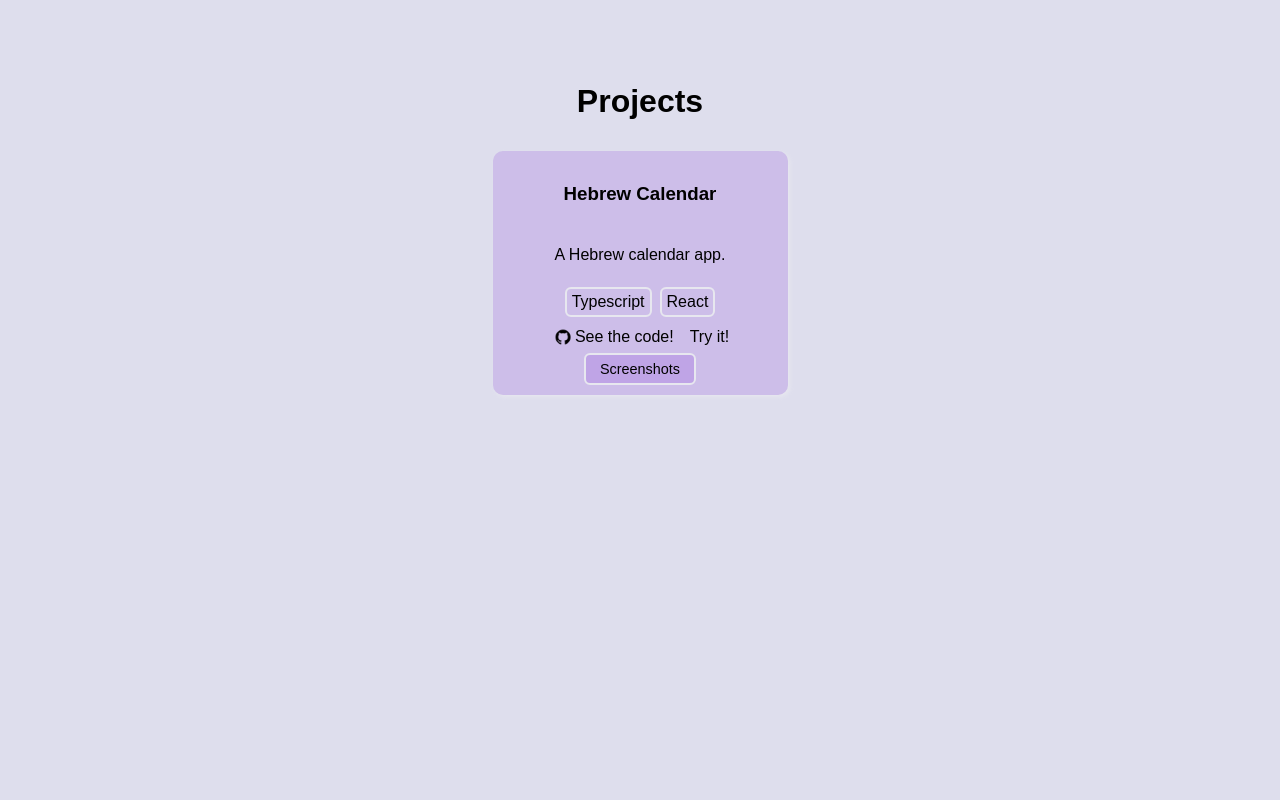
Test: Projects › screenshots modal › should open the modal when the screenshots button is clicked
Click the button "Screenshots": point(640, 369) [584,353,696,385]
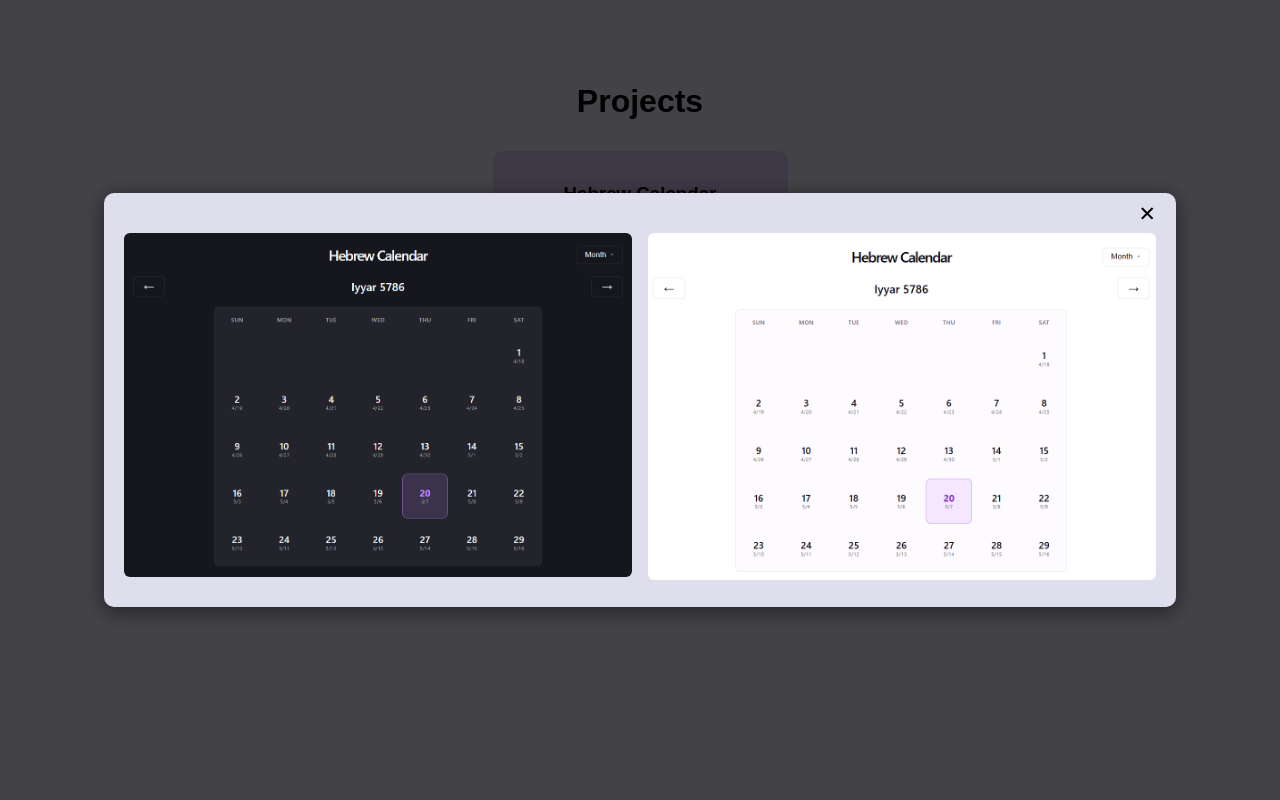
Now the element showing "✕" is shown
